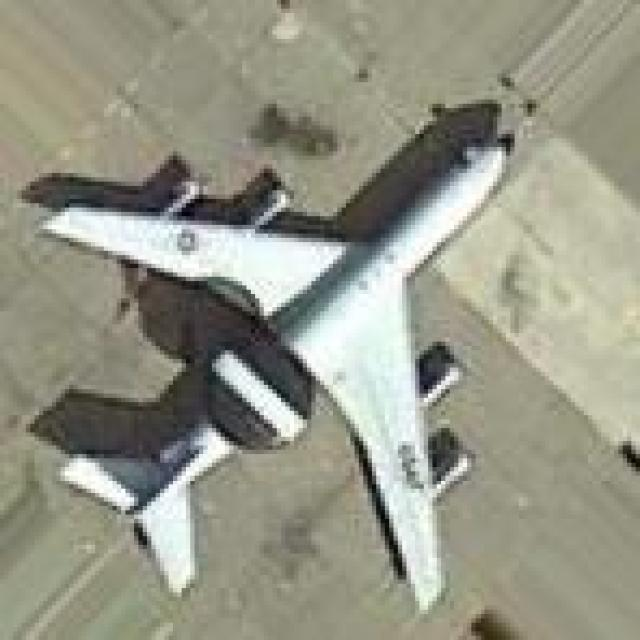E-3_TopDown: (17, 91, 519, 610)
